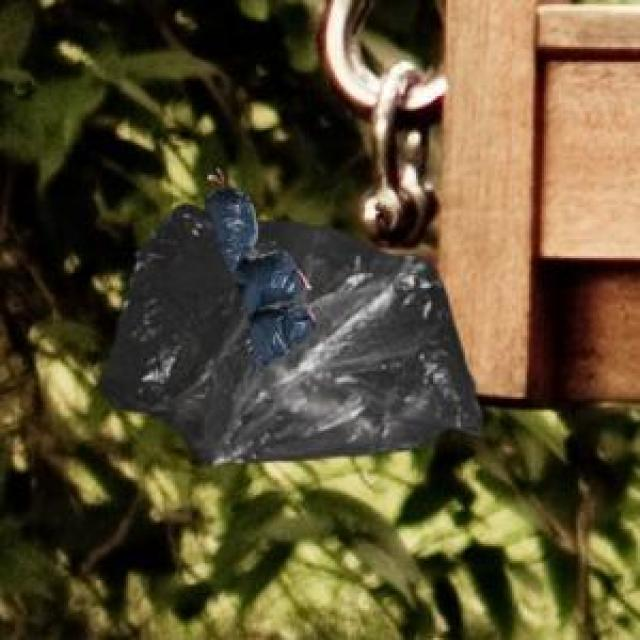miscellaneous trash: (203, 181, 312, 369)
